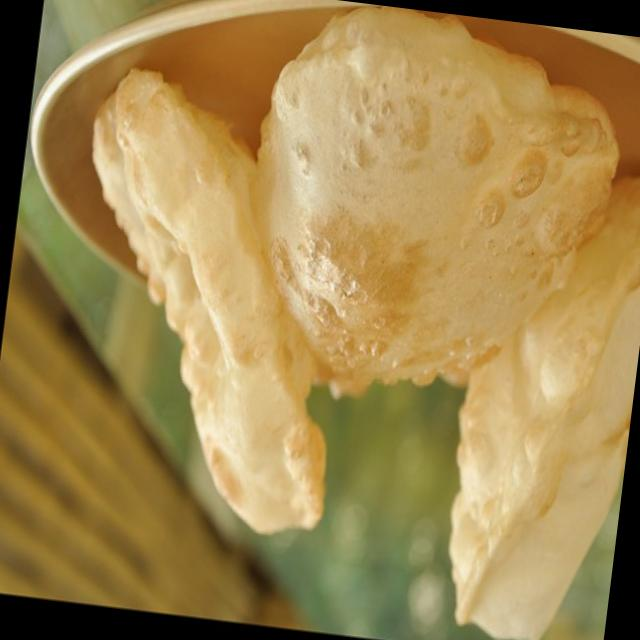Bhatura: (47, 0, 632, 574), (410, 142, 640, 640)
